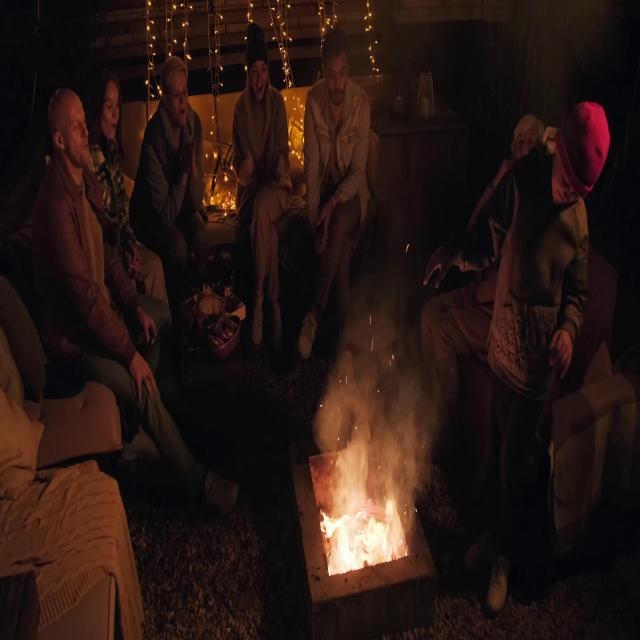Fire: (322, 480, 402, 570)
Smoke: (314, 272, 462, 484)
